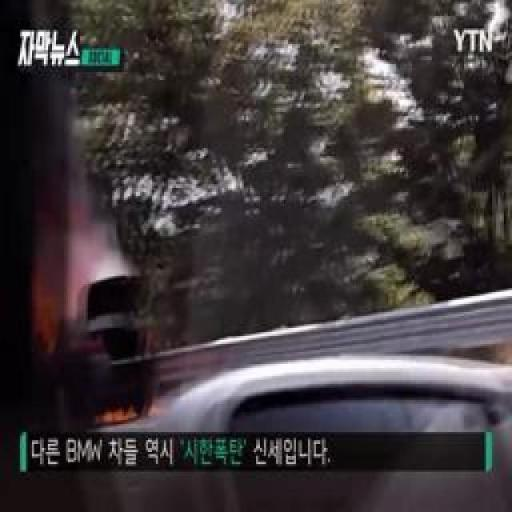smoke: (32, 255, 64, 358)
